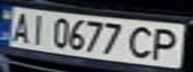0: (48, 15, 72, 49)
6: (66, 16, 87, 52)
7: (100, 20, 127, 56), (84, 18, 106, 53)
A: (6, 9, 36, 44)
C: (124, 24, 160, 60)
I: (24, 11, 51, 46)
P: (145, 25, 187, 62)
